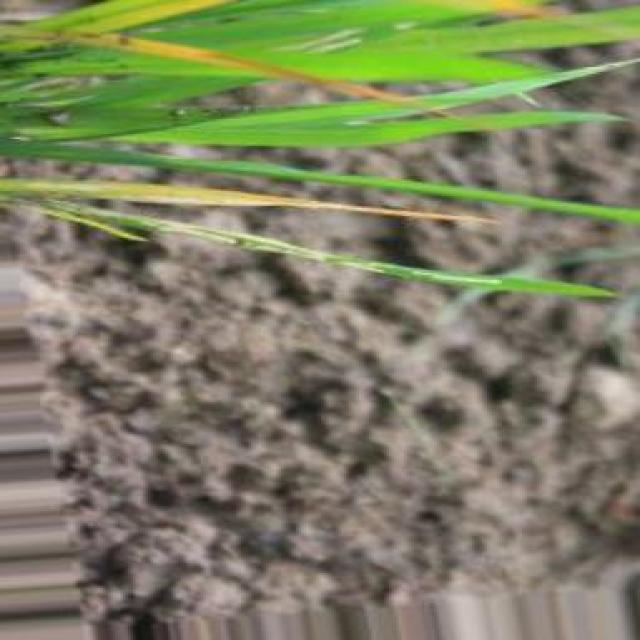Rice Tungro: (66, 33, 406, 103), (0, 181, 492, 223), (28, 0, 228, 33)
